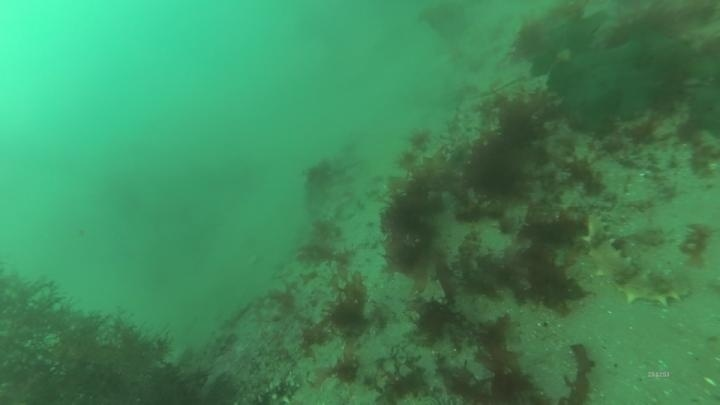holothurian: (576, 211, 693, 310)
